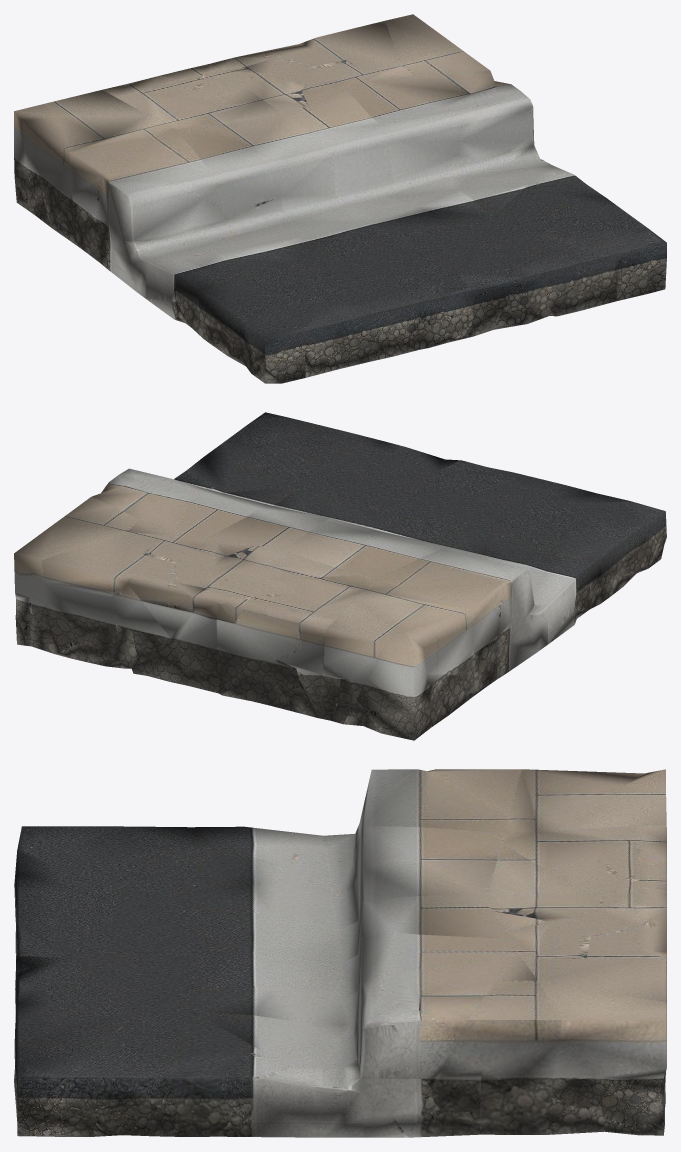
The model's file is kerb_lod1.glb.
3 renders of one model, top to bottom at view 1: azimuth 30°, elevation 25°; view 2: azimuth 150°, elevation 25°; view 3: azimuth 270°, elevation 25°, orthographic. The views are drawn at different scales.
Parts seen in each view (by area): view 1: mesh_node; view 2: mesh_node; view 3: mesh_node.
Boxes of the visible parts, x1,y1,x2,y2 form: mesh_node: [14, 14, 666, 383]; mesh_node: [14, 412, 666, 740]; mesh_node: [14, 769, 666, 1137].
Bounding box in the file's own units: 1.74 × 0.3776 × 1.89.
1 material, 1 textured.
